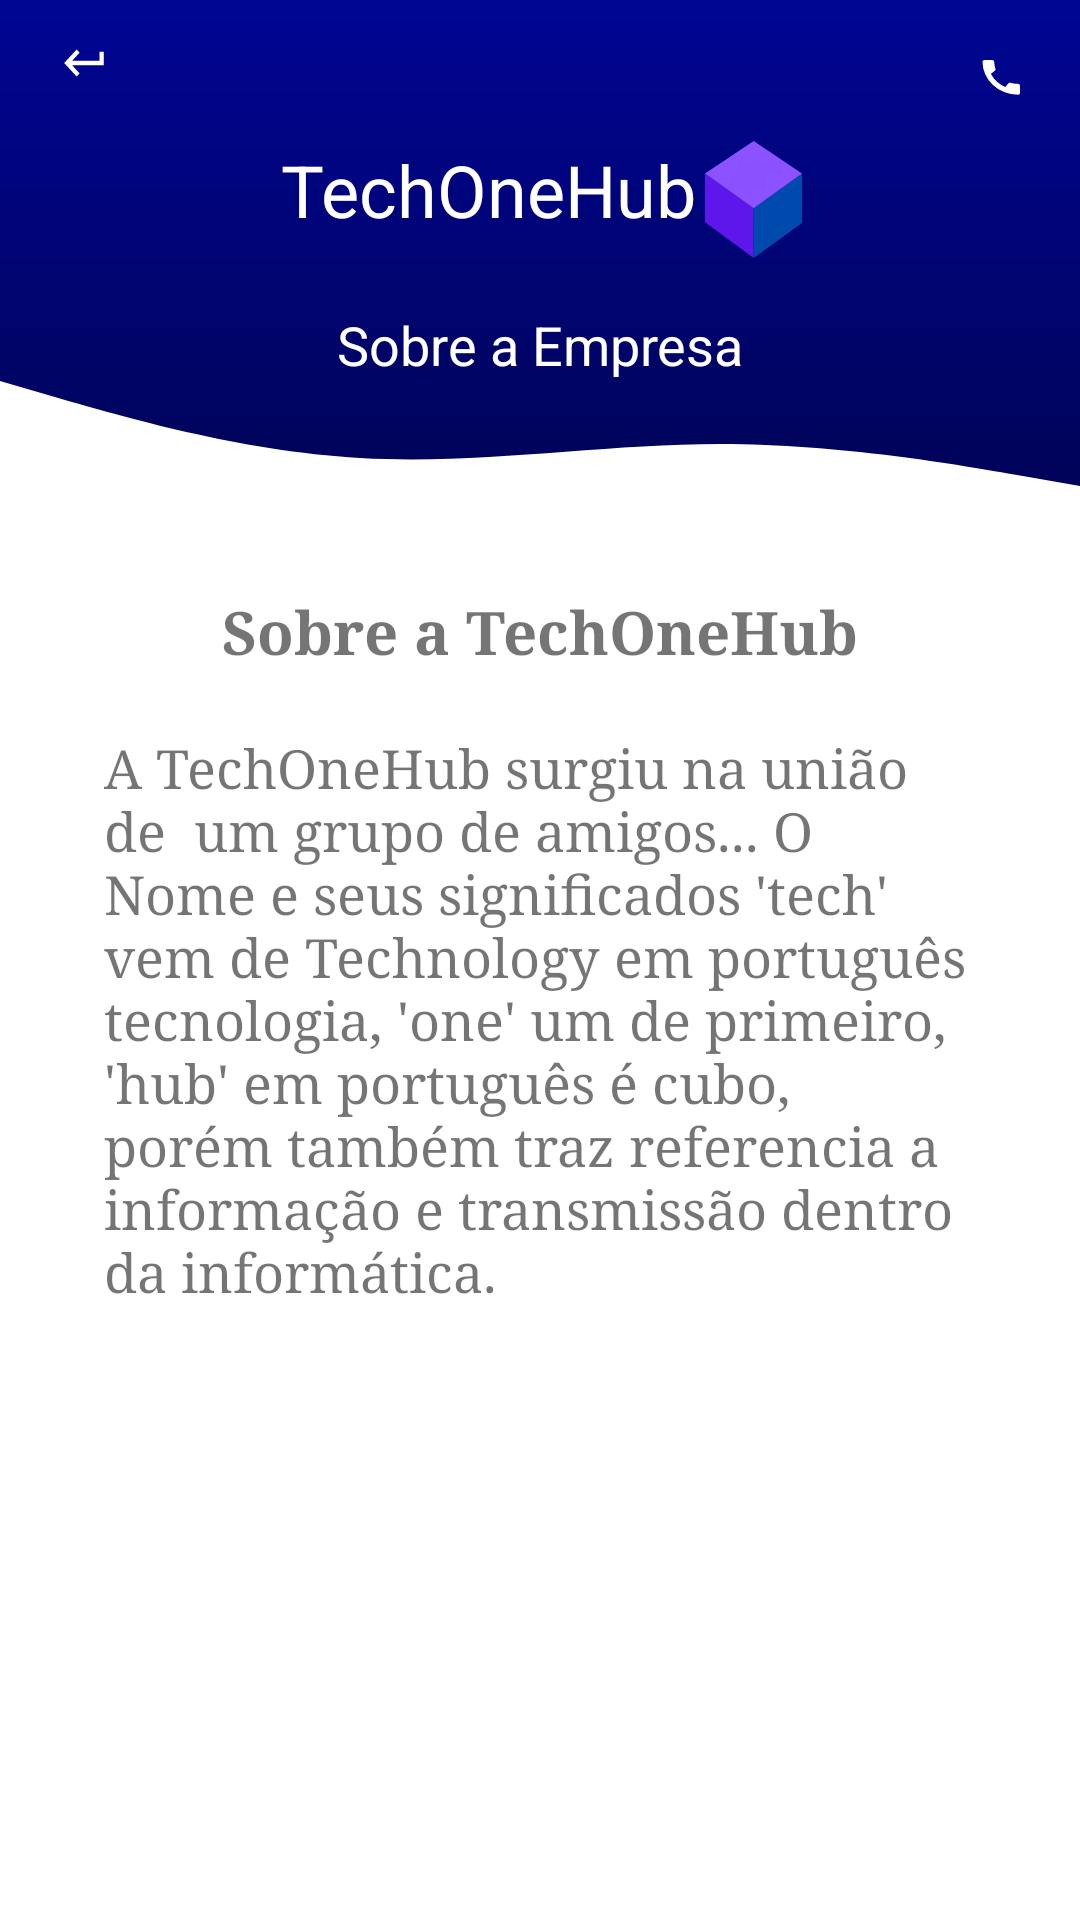

Icon bounding boxes for this 1080px x 1920px phone screenshot, format (x1, y1, x2, y2):
back: (64, 49, 104, 77)
call: (982, 60, 1020, 95)
